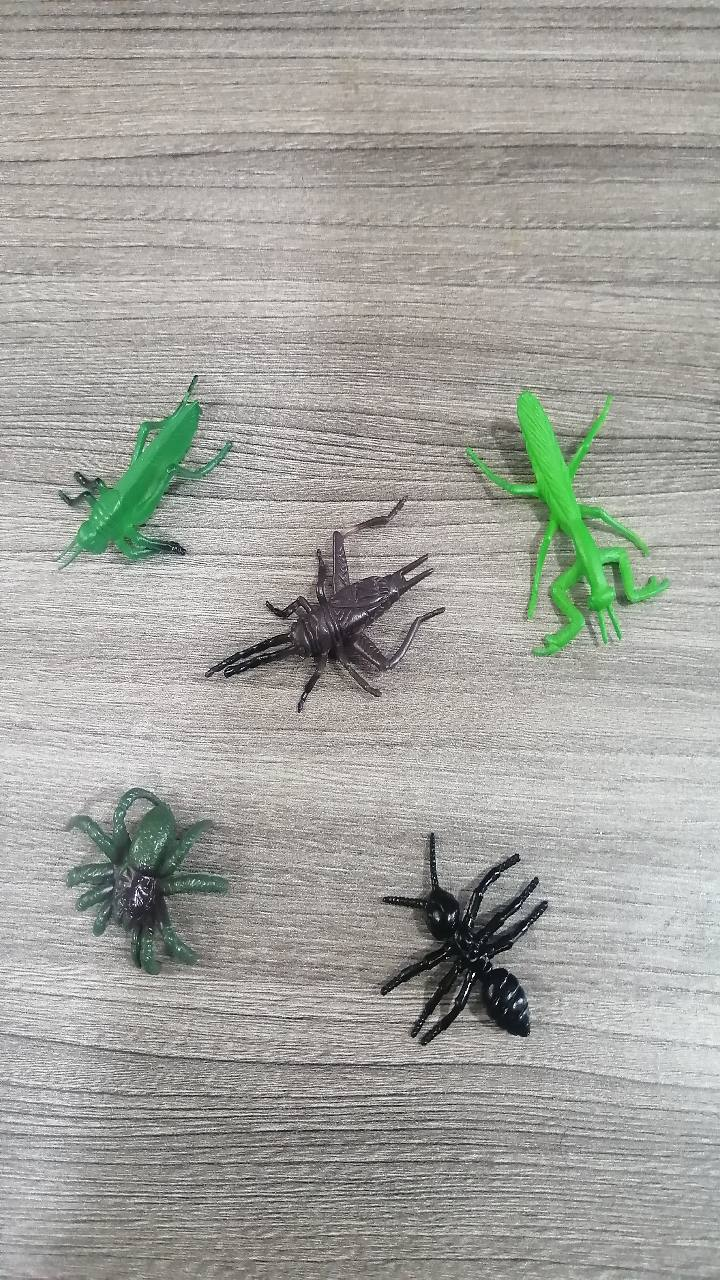intruso: (428, 355, 674, 671), (8, 728, 254, 1002), (200, 486, 455, 740), (340, 806, 569, 1072), (28, 354, 240, 597)
